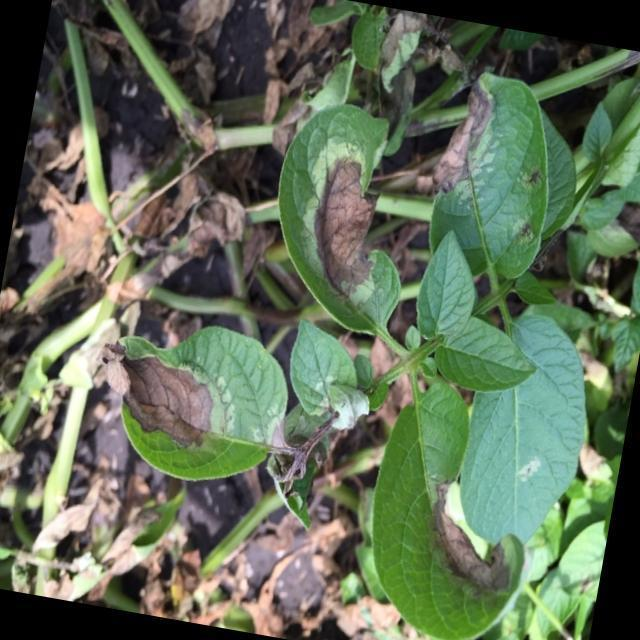Healthy Leaf: (409, 230, 484, 342), (430, 324, 540, 397)
